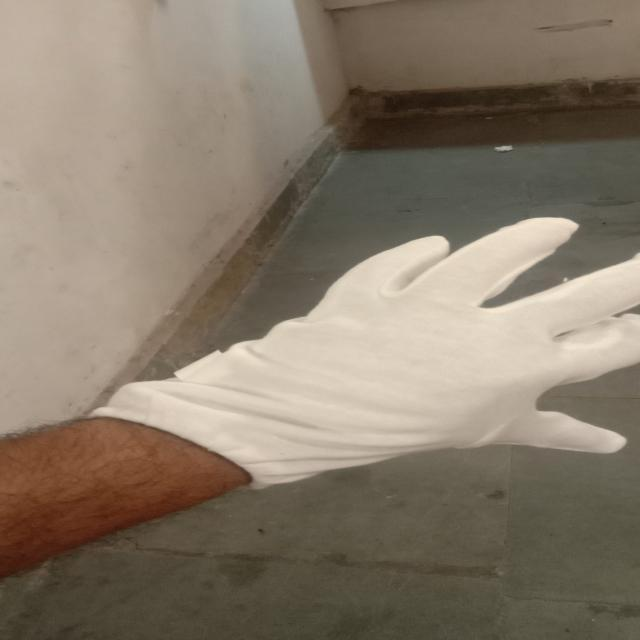glove_hand: (68, 207, 637, 495)
